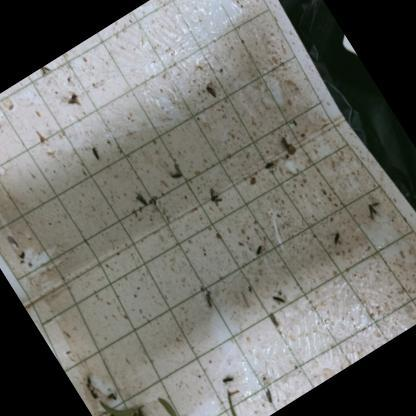prays_oleae: (127, 182, 156, 216), (211, 362, 240, 393), (198, 78, 226, 108), (360, 194, 388, 223), (204, 184, 230, 212), (166, 161, 192, 188), (268, 286, 293, 312), (258, 381, 280, 410), (198, 284, 222, 310), (326, 226, 348, 249), (264, 307, 284, 332), (85, 140, 105, 164), (250, 240, 267, 258), (38, 63, 53, 78)
